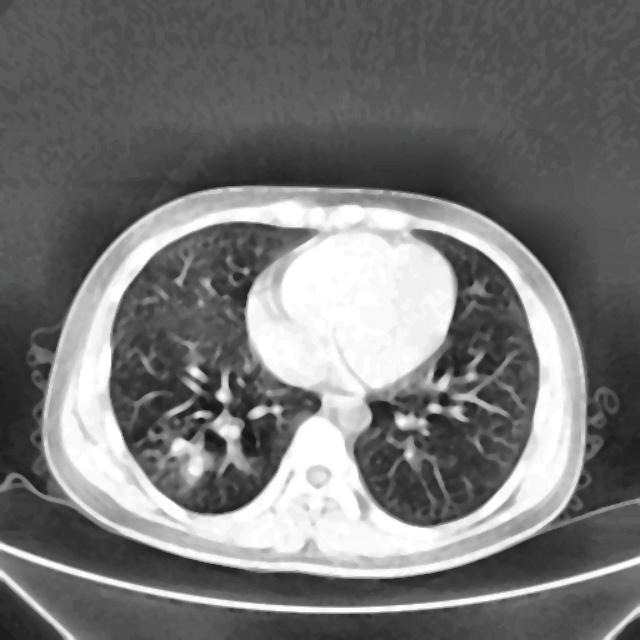covid: (28, 184, 588, 577)
